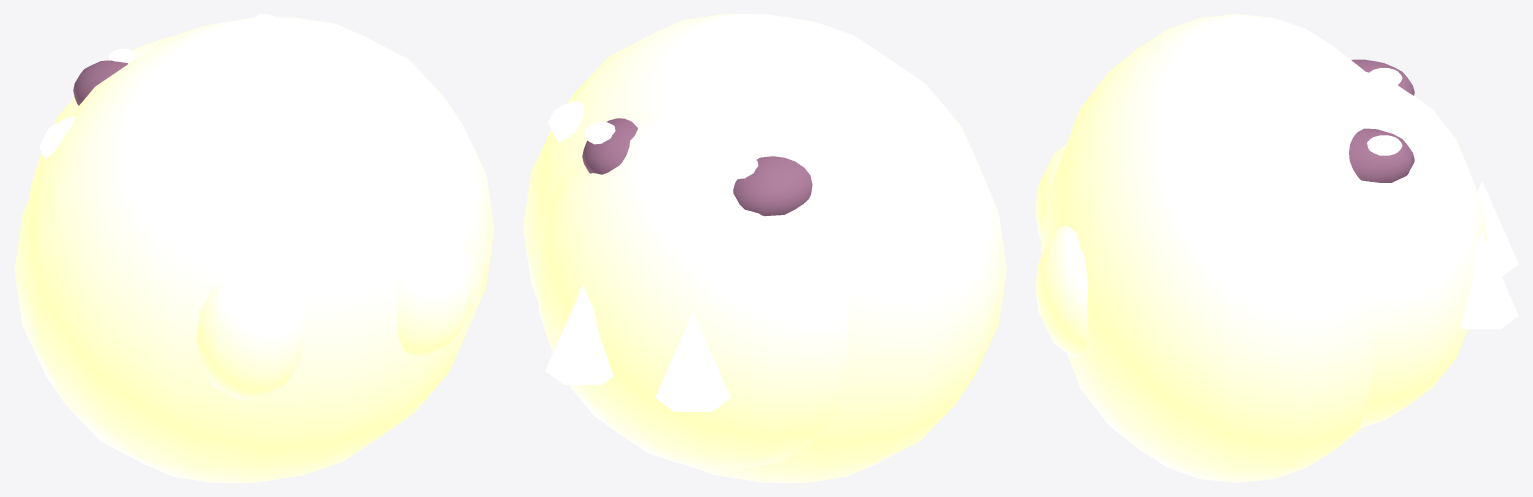
File: monster_sand_wurm.glb
3 renders of one model, left to right at view 1: azimuth 30°, elevation 25°; view 2: azimuth 150°, elevation 25°; view 3: azimuth 270°, elevation 25°, orthographic. The views are drawn at different scales.
Visible parts, largest first — view 1: body, leg_l, leg_r, eye_l, head, cheek_l; view 2: body, head, horn_l, horn_r, eye_l, cheek_l, eye_r, cheek_r, shine_r, shine_l; view 3: body, head, leg_r, horn_r, eye_r, cheek_r, horn_l, leg_l, shine_r, eye_l.
Part boxes in pixels (left/top/right/bottom): body: left=14, top=17, right=494, bottom=482; leg_l: left=196, top=270, right=304, bottom=399; leg_r: left=397, top=222, right=474, bottom=358; eye_l: left=73, top=60, right=127, bottom=105; head: left=29, top=36, right=171, bottom=197; cheek_l: left=39, top=116, right=74, bottom=158; body: left=523, top=14, right=1006, bottom=482; head: left=533, top=119, right=848, bottom=468; horn_l: left=655, top=312, right=730, bottom=411; horn_r: left=545, top=285, right=613, bottom=384; eye_l: left=733, top=156, right=812, bottom=216; cheek_l: left=848, top=174, right=905, bottom=219; eye_r: left=582, top=118, right=637, bottom=174; cheek_r: left=548, top=101, right=584, bottom=142; shine_r: left=585, top=121, right=615, bottom=144; shine_l: left=728, top=156, right=758, bottom=179; body: left=1041, top=14, right=1375, bottom=482; head: left=1356, top=72, right=1487, bottom=428; leg_r: left=1035, top=225, right=1088, bottom=357; horn_r: left=1460, top=233, right=1518, bottom=329; eye_r: left=1349, top=128, right=1414, bottom=182; cheek_r: left=1296, top=182, right=1339, bottom=228; horn_l: left=1477, top=181, right=1518, bottom=276; leg_l: left=1035, top=144, right=1066, bottom=240; shine_r: left=1367, top=135, right=1402, bottom=155; eye_l: left=1351, top=59, right=1414, bottom=95.
Bounding box in the file's own units: 0.8 × 0.76 × 0.79.
